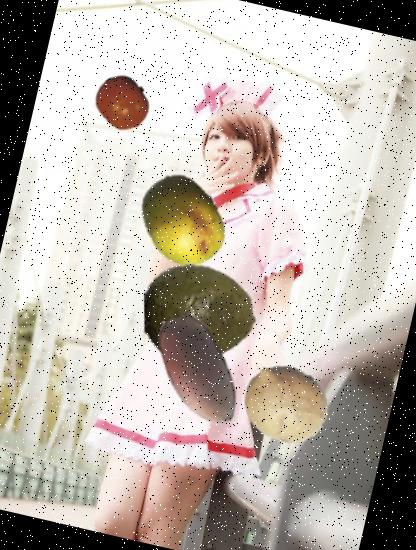Clementine: (89, 69, 156, 136)
Guava: (133, 247, 266, 380)
Hazelnut: (126, 302, 270, 444)
Lemon: (235, 352, 338, 456)
Pomelo: (124, 162, 240, 278)
